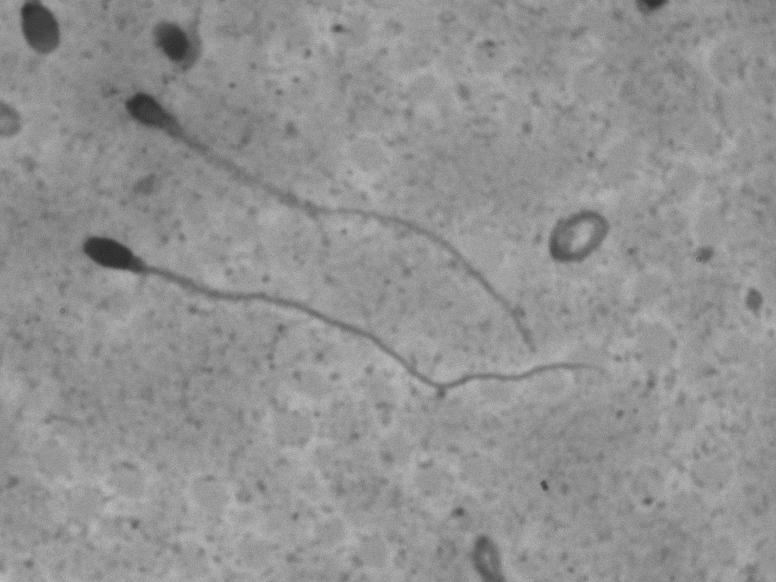Abnormal: (109, 76, 564, 362), (70, 213, 365, 347)
